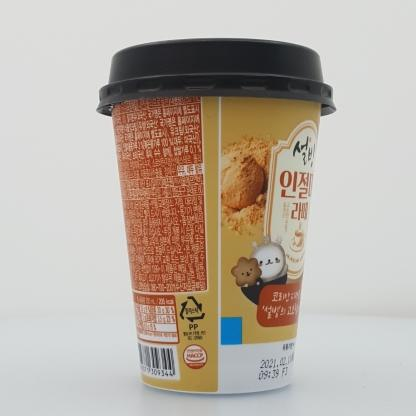--------------250ML: (96, 38, 337, 394)
